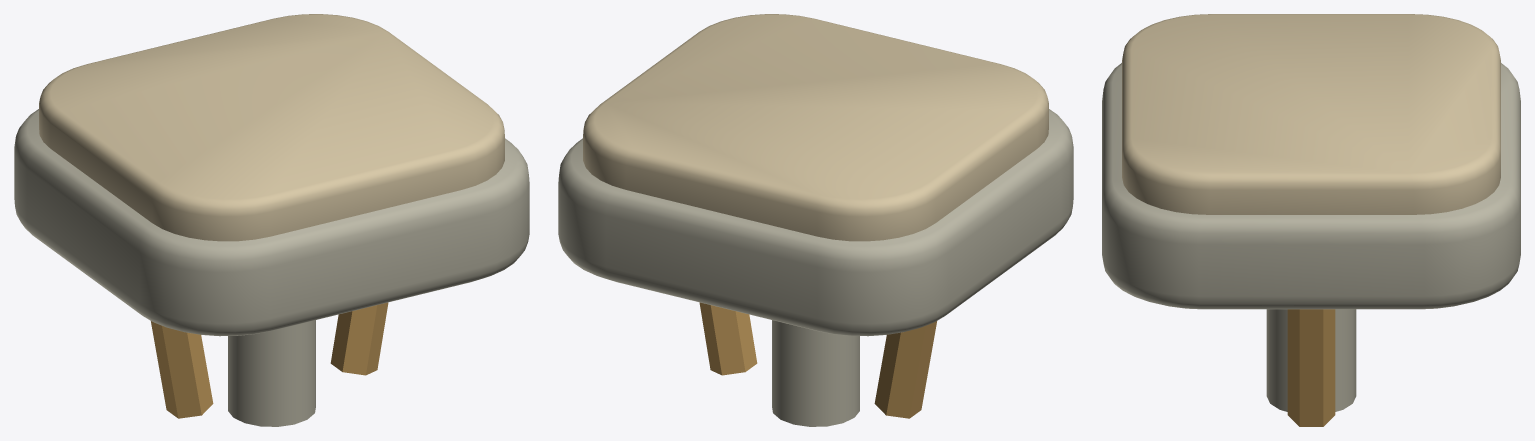
File: Metropolitan.glb
The picture shows the model from 3 angles, left to right: view 1: azimuth 30°, elevation 25°; view 2: azimuth 150°, elevation 25°; view 3: azimuth 270°, elevation 25°; orthographic projection.
Visible parts, largest first — view 1: Inset keytop, Key bezel, Keystem, Key support (×2); view 2: Inset keytop, Key bezel, Keystem, Key support (×2); view 3: Inset keytop, Key bezel, Key support, Keystem.
Part boxes in pixels (<box>): Inset keytop: <box>39,14,504,241</box>; Key bezel: <box>14,109,529,336</box>; Keystem: <box>228,320,315,426</box>; Key support (×2): <box>151,302,388,418</box>; Inset keytop: <box>583,14,1048,241</box>; Key bezel: <box>558,109,1073,336</box>; Keystem: <box>772,320,859,426</box>; Key support (×2): <box>699,302,936,418</box>; Inset keytop: <box>1122,14,1500,214</box>; Key bezel: <box>1102,63,1520,309</box>; Key support: <box>1287,309,1335,426</box>; Keystem: <box>1266,309,1356,411</box>.
Size of the model in its own units: 0.46 by 0.351 by 0.44.
